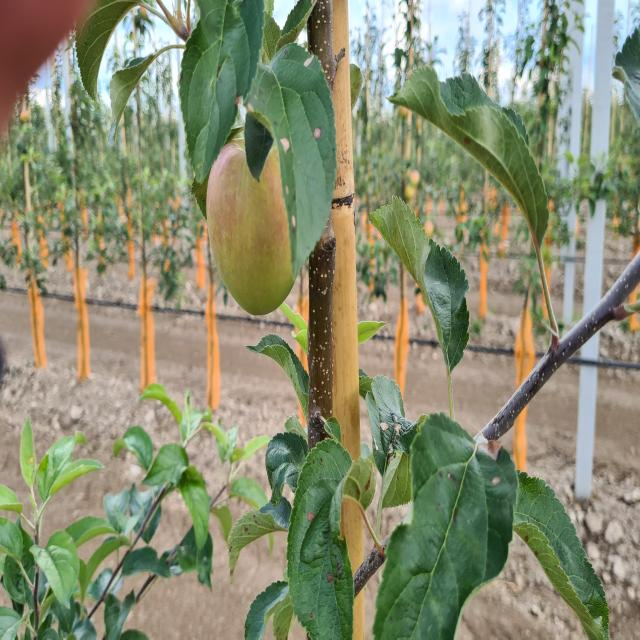Apple: (206, 138, 294, 316)
